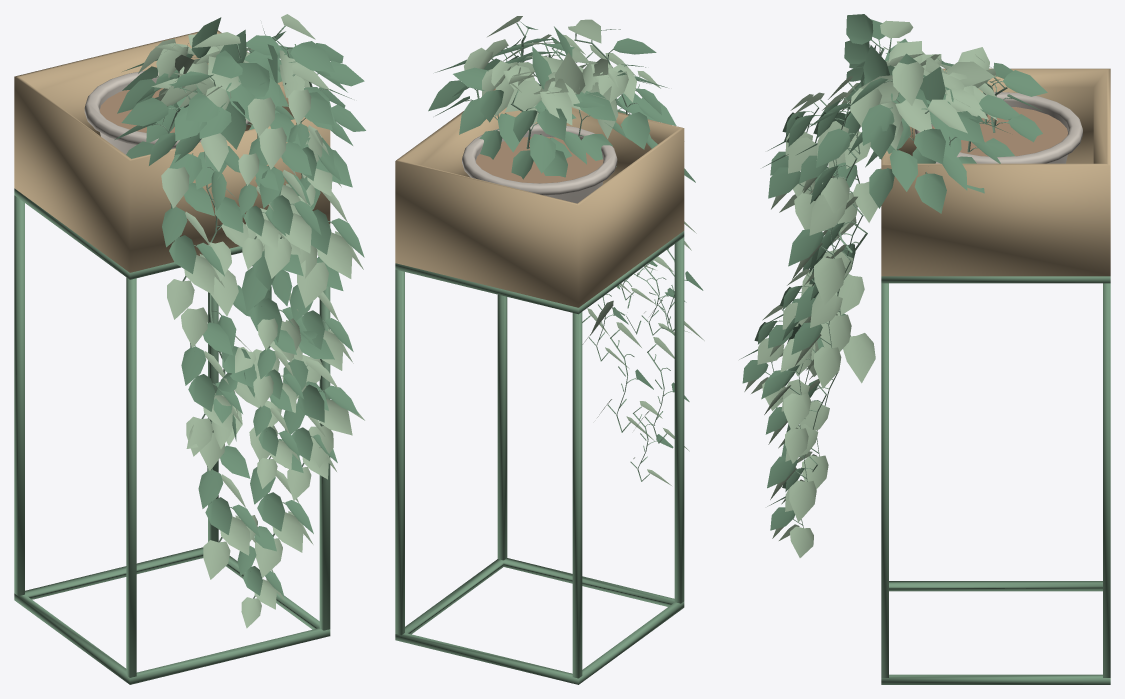
The model's file is plant_trailing_box.glb.
3 renders of one model, left to right at view 1: azimuth 30°, elevation 25°; view 2: azimuth 150°, elevation 25°; view 3: azimuth 270°, elevation 25°, orthographic. The views are drawn at different scales.
Visible parts, largest first — view 1: plant_trailing_box_solid_#7FA98A, plant_trailing_box_solid_#B9D4B5, plant_trailing_box_solid_#E3C9A0, plant_trailing_box_solid_#8DB596, plant_trailing_box_solid_#E9E1D6, plant_trailing_box_solid_#9CC3A4, plant_trailing_box_solid_#C9A98A; view 2: plant_trailing_box_solid_#E3C9A0, plant_trailing_box_solid_#8DB596, plant_trailing_box_solid_#7FA98A, plant_trailing_box_solid_#B9D4B5, plant_trailing_box_solid_#E9E1D6, plant_trailing_box_solid_#9CC3A4, plant_trailing_box_solid_#C9A98A; view 3: plant_trailing_box_solid_#E3C9A0, plant_trailing_box_solid_#B9D4B5, plant_trailing_box_solid_#7FA98A, plant_trailing_box_solid_#8DB596, plant_trailing_box_solid_#E9E1D6, plant_trailing_box_solid_#C9A98A, plant_trailing_box_solid_#9CC3A4.
Part boxes in pixels (left/top/right/bottom): plant_trailing_box_solid_#7FA98A: left=114, top=17, right=365, bottom=595; plant_trailing_box_solid_#B9D4B5: left=138, top=14, right=364, bottom=628; plant_trailing_box_solid_#E3C9A0: left=14, top=30, right=330, bottom=272; plant_trailing_box_solid_#8DB596: left=14, top=188, right=330, bottom=684; plant_trailing_box_solid_#E9E1D6: left=84, top=70, right=249, bottom=154; plant_trailing_box_solid_#9CC3A4: left=151, top=25, right=332, bottom=598; plant_trailing_box_solid_#C9A98A: left=99, top=88, right=174, bottom=132; plant_trailing_box_solid_#E3C9A0: left=395, top=88, right=684, bottom=307; plant_trailing_box_solid_#8DB596: left=395, top=231, right=684, bottom=684; plant_trailing_box_solid_#7FA98A: left=428, top=21, right=703, bottom=448; plant_trailing_box_solid_#B9D4B5: left=464, top=16, right=704, bottom=485; plant_trailing_box_solid_#E9E1D6: left=462, top=123, right=617, bottom=203; plant_trailing_box_solid_#9CC3A4: left=465, top=23, right=687, bottom=481; plant_trailing_box_solid_#C9A98A: left=476, top=137, right=603, bottom=183; plant_trailing_box_solid_#E3C9A0: left=881, top=68, right=1110, bottom=276; plant_trailing_box_solid_#B9D4B5: left=744, top=20, right=997, bottom=557; plant_trailing_box_solid_#7FA98A: left=739, top=14, right=1047, bottom=530; plant_trailing_box_solid_#8DB596: left=881, top=276, right=1110, bottom=684; plant_trailing_box_solid_#E9E1D6: left=915, top=92, right=1082, bottom=163; plant_trailing_box_solid_#C9A98A: left=932, top=107, right=1067, bottom=156; plant_trailing_box_solid_#9CC3A4: left=765, top=38, right=1012, bottom=527.
Bounding box in the file's own units: 0.3685 × 0.8838 × 0.4895.
